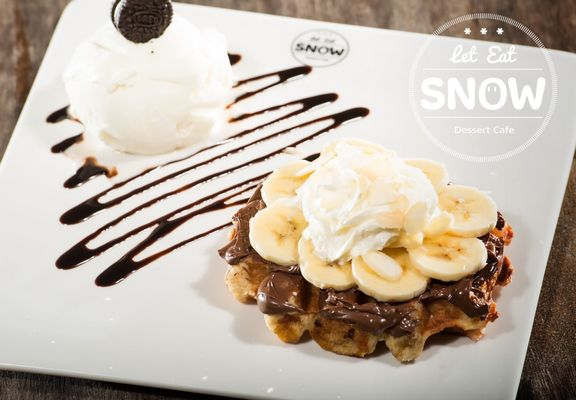curry: (3, 0, 575, 390)
